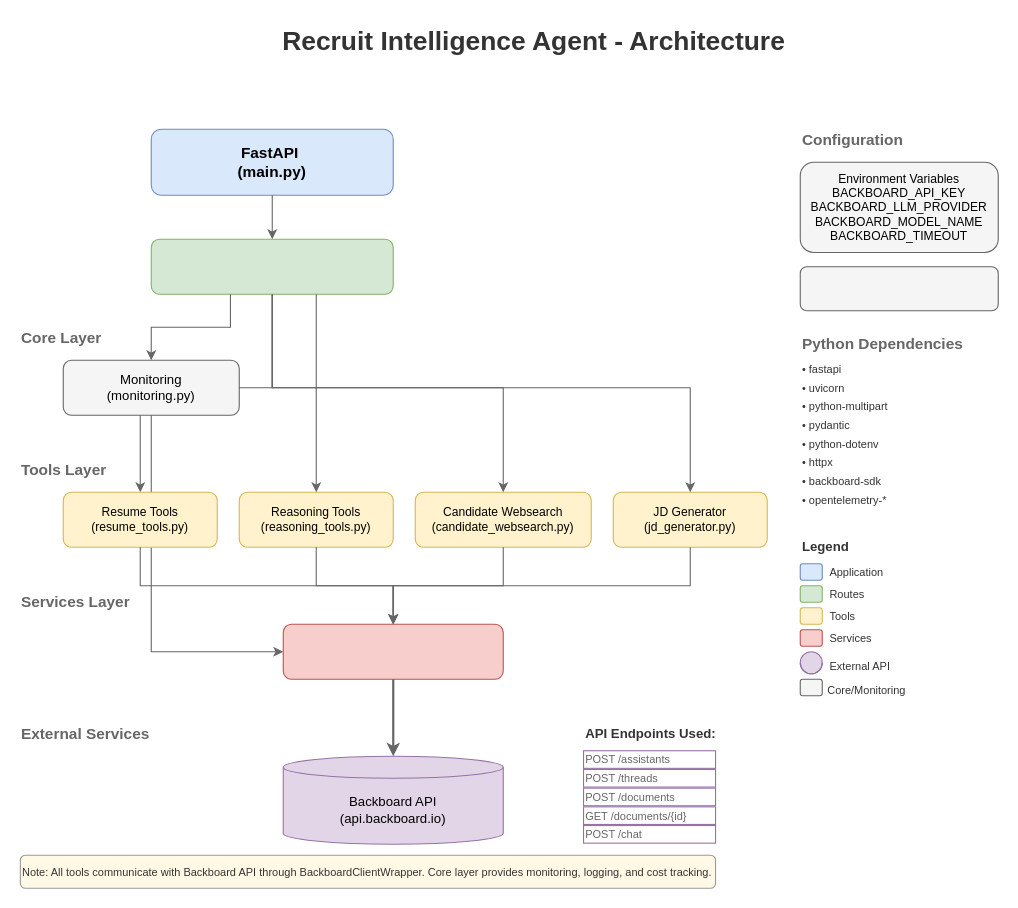
Some shapes in this 1018 by 908 pixel diagram are drawn without their labels. The shapes that lost their labels are listed below. From the top down, each one's centre as x and y in pixels, then its label:
At (x=271, y=266): "API Routes (routes.py)".
At (x=898, y=288): "LLM Provider: openai Model: gpt-5-mini".
At (x=392, y=651): "BackboardClientWrapper (backboard_client.py)".
